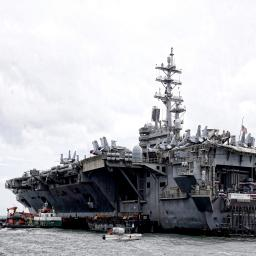Portanaves: (6, 47, 256, 241)
